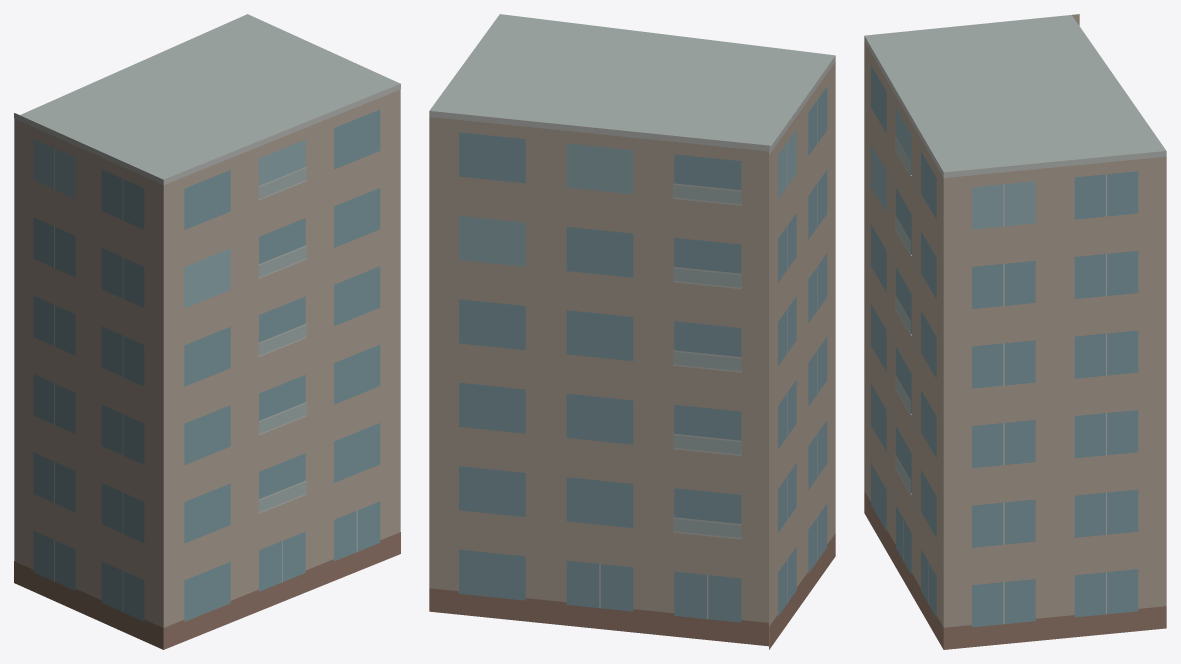
The model's file is survey-upis-32865120.glb.
3 renders of one model, left to right at view 1: azimuth 30°, elevation 25°; view 2: azimuth 150°, elevation 25°; view 3: azimuth 270°, elevation 25°, orthographic. The views are drawn at different scales.
Parts seen in each view (by area): view 1: survey-upis-32865120.tmp; view 2: survey-upis-32865120.tmp; view 3: survey-upis-32865120.tmp.
Part boxes in pixels (bbox=[...]): survey-upis-32865120.tmp: bbox=[14, 14, 400, 649]; survey-upis-32865120.tmp: bbox=[429, 14, 835, 649]; survey-upis-32865120.tmp: bbox=[864, 14, 1166, 649].
Bounding box in the file's own units: 14.6 × 20.5 × 11.77.
